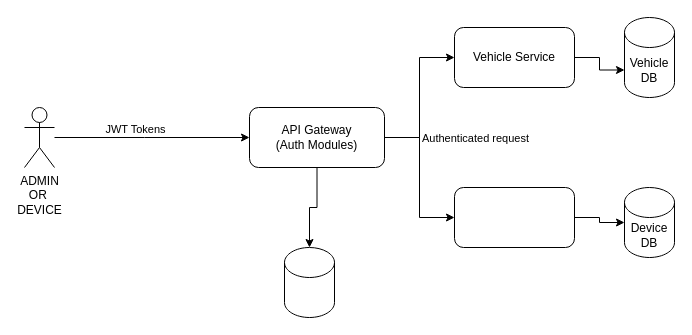
Some shapes in this 692 by 335 pixel diagram are drawn without their labels. The box of each missing label's shape, as (x1, y1, x2, y2) in pixels:
Auth DB: (284, 246, 334, 318)
Device Service: (454, 186, 574, 248)
